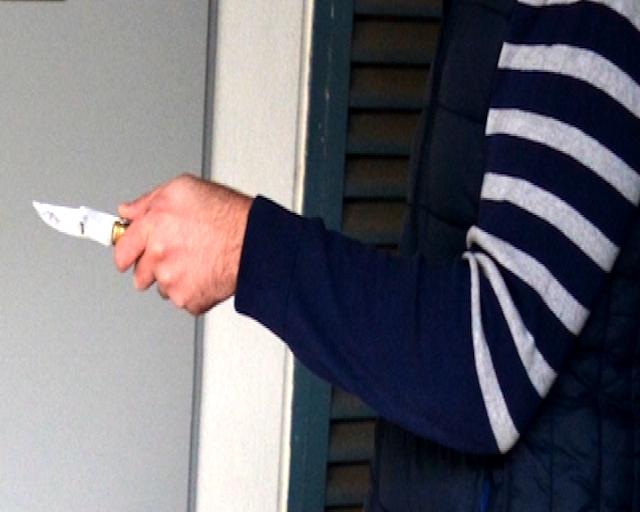pocket-knife: (32, 189, 182, 271)
